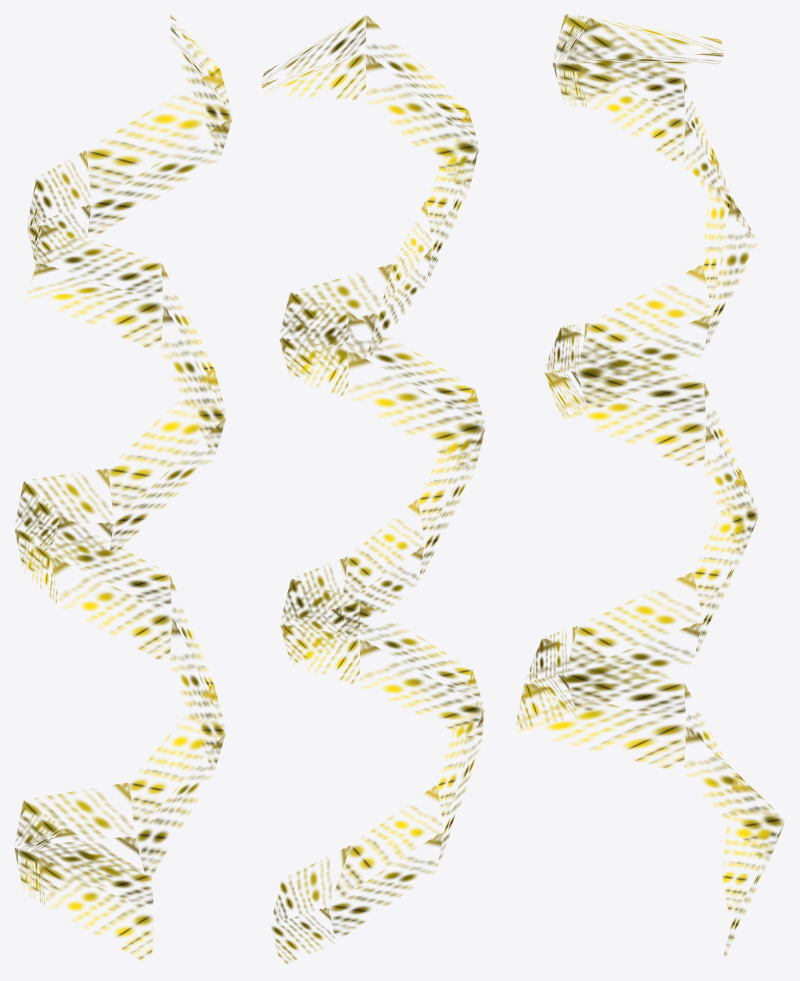
The model's file is interior-light05.glb.
3 renders of one model, left to right at view 1: azimuth 30°, elevation 25°; view 2: azimuth 150°, elevation 25°; view 3: azimuth 270°, elevation 25°, orthographic. The views are drawn at different scales.
Visible parts, largest first — view 1: InteriorLight05; view 2: InteriorLight05; view 3: InteriorLight05.
Boxes of the visible parts, <box> form: InteriorLight05: <box>14,15,231,959</box>; InteriorLight05: <box>261,15,484,963</box>; InteriorLight05: <box>516,14,783,956</box>.
Bounding box in the file's own units: 0.4873 × 2.54 × 0.6606.
1 material, 1 textured.
